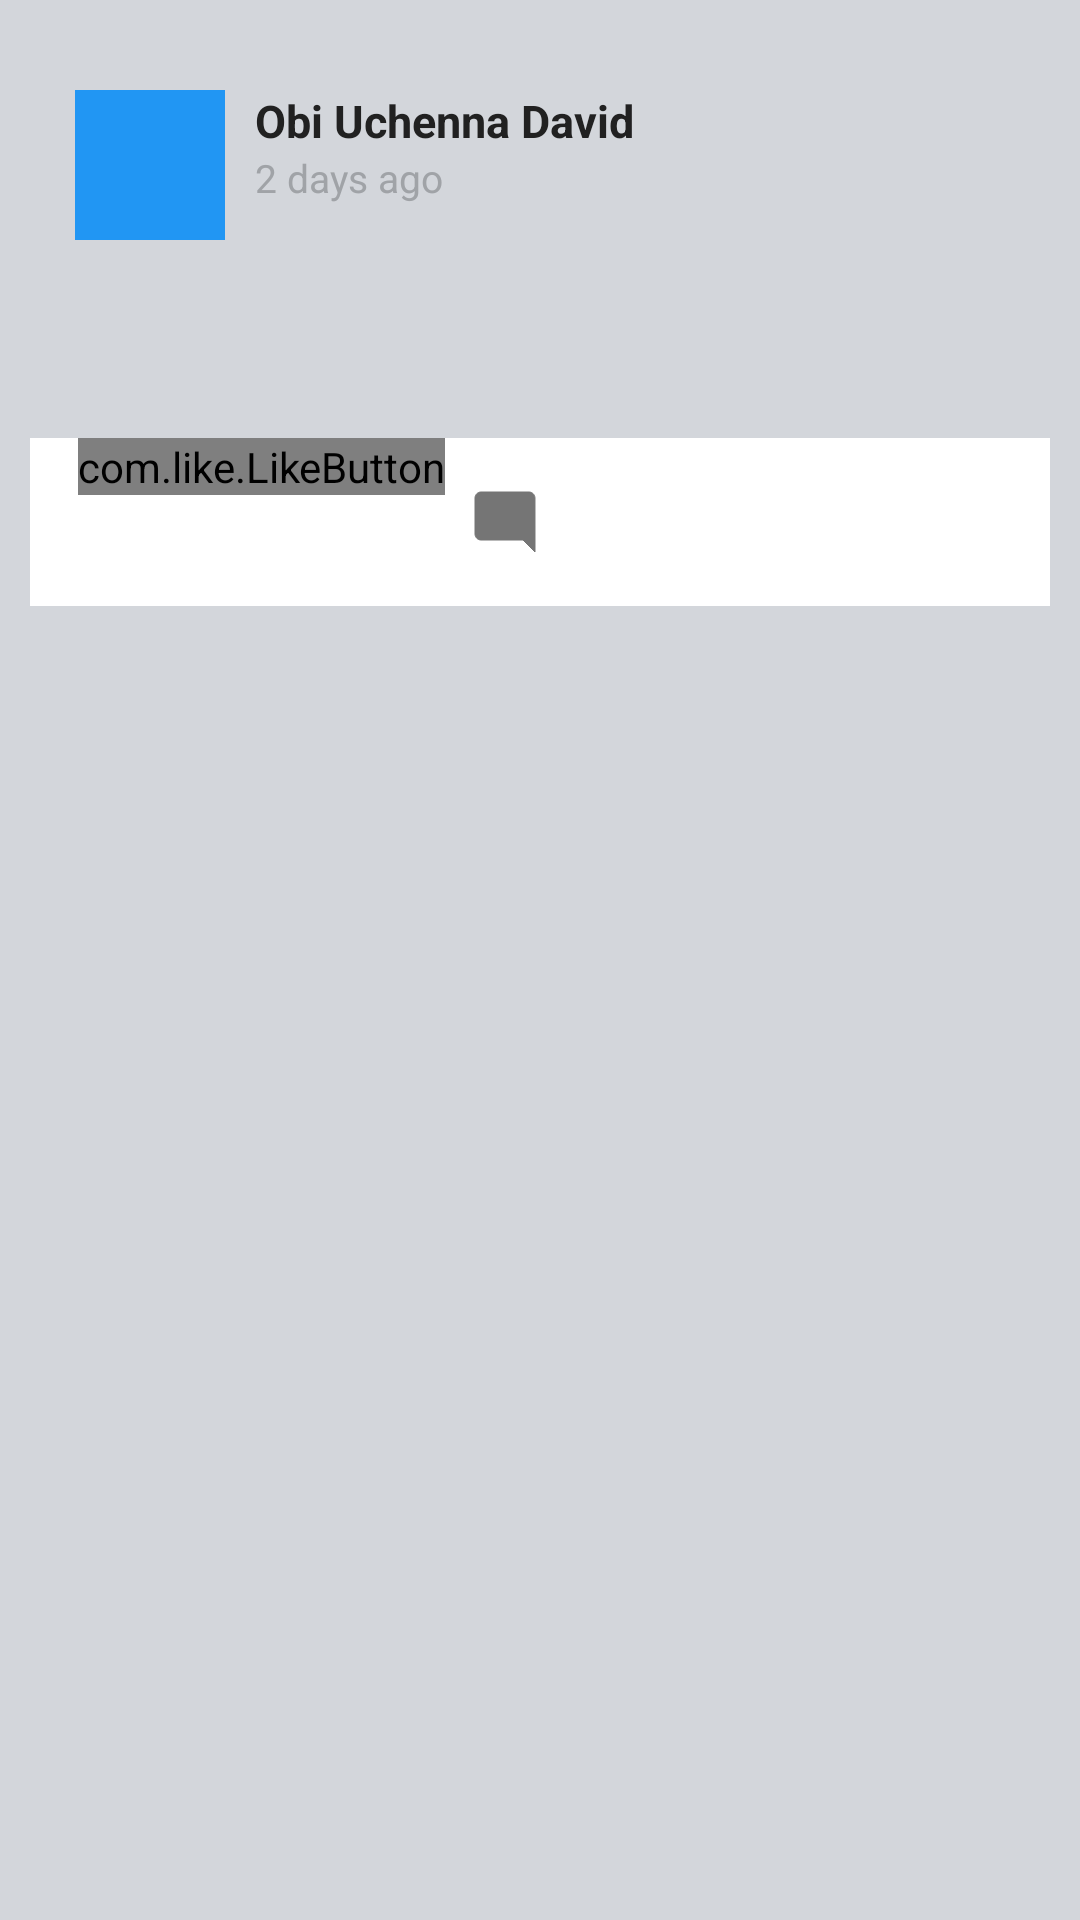

Named icons in this screenshot (1080*1920) and their bounding boxes, (x1, y1, x2, y2):
comment: (474, 491, 536, 552)
